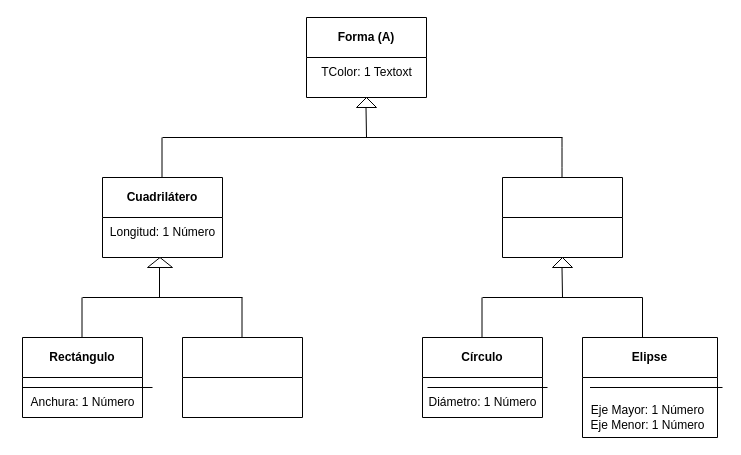
Some shapes in this 741 by 455 pixel diagram are drawn without their labels. The shapes that lost their labels are listed below. From the top down, each one's centre as x and y in pixels, then its label:
At pixel 562 217: "Cónica".
At pixel 242 377: "Cuadrado".
